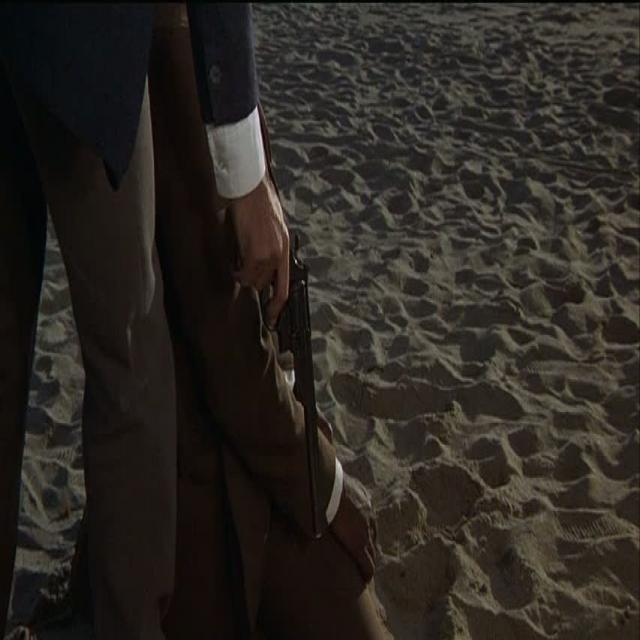gun-knife-thesis - v11 Yolov5 augmented: (232, 212, 328, 546)
